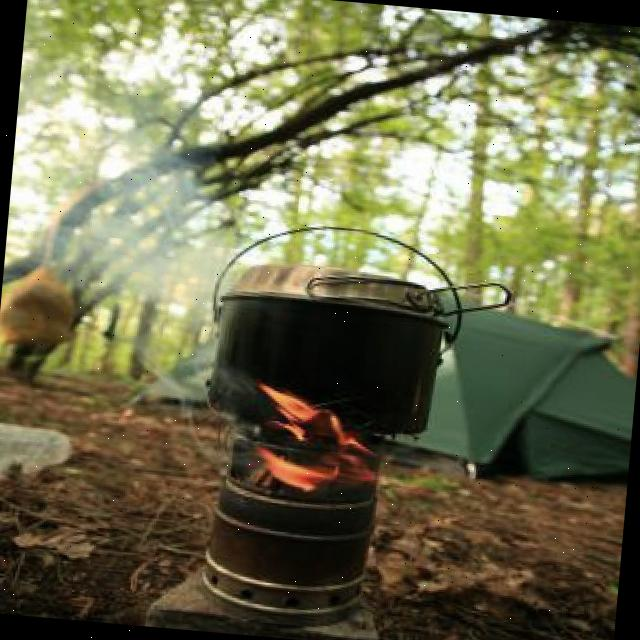fire: (21, 116, 236, 312), (242, 380, 446, 512)
